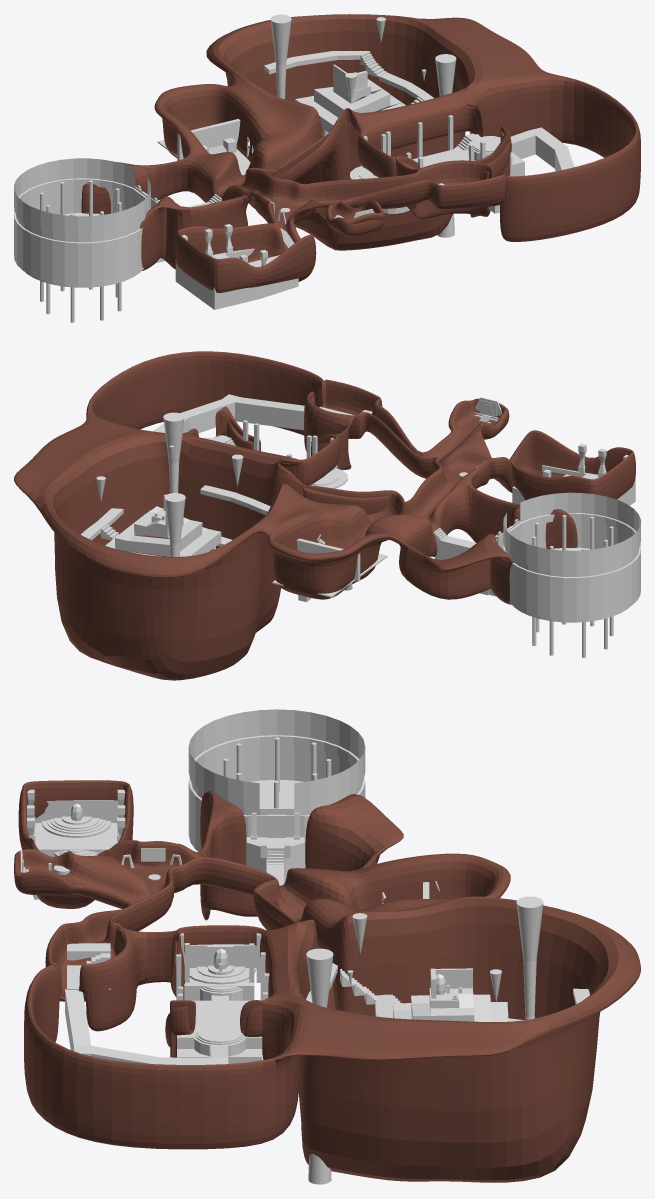
File: lvl1_2.fbx
The picture shows the model from 3 angles, top to bottom: view 1: azimuth 30°, elevation 25°; view 2: azimuth 150°, elevation 25°; view 3: azimuth 270°, elevation 25°; orthographic projection. The views are drawn at different scales.
Visible parts, largest first — view 1: Cube.020, Cylinder.004, Plane, Cube.031, Cube.101, Cylinder.009, Cube.062, Cylinder.010, Cube.121, Cube.118, Cube.096, Cube.097; view 2: Cube.020, Cylinder.004, Plane, Cube.101, Cylinder.010, Cylinder.009, Cube.105, Cube.031, Cube.036, Cube.062, Cube.118; view 3: Cube.020, Cylinder.004, Plane, Cube.031, Cube.101, Cylinder.009, Cylinder.010, Cube.051, Cube.096, Cylinder.023, Cube.088, Cube.097 (+4 smaller).
Part boxes in pixels (x1,y1,x2,y2): Cube.020: (81,14,640,292); Cylinder.004: (14,158,150,285); Plane: (295,79,405,132); Cube.031: (175,248,298,309); Cube.101: (488,127,574,213); Cylinder.009: (270,14,291,99); Cube.062: (177,119,240,160); Cylinder.010: (435,54,456,237); Cube.121: (264,51,369,74); Cube.118: (379,72,433,100); Cube.096: (412,133,524,176); Cube.097: (412,149,468,167); Cube.020: (14,351,635,680); Cylinder.004: (503,492,640,619); Plane: (105,506,232,556); Cube.101: (153,394,304,433); Cylinder.010: (163,412,184,556); Cylinder.009: (164,493,185,556); Cube.105: (200,485,270,515); Cube.031: (512,465,635,505); Cube.036: (434,536,488,595); Cube.062: (296,538,360,581); Cube.118: (81,508,123,540); Cube.020: (14,780,640,1182); Cylinder.004: (188,709,365,868); Plane: (375,988,508,1021); Cube.031: (33,800,118,899); Cube.101: (65,989,228,1064); Cylinder.009: (516,896,543,1020); Cylinder.010: (306,948,333,1184); Cube.051: (246,837,304,883); Cube.096: (177,1000,262,1063); Cylinder.023: (42,816,111,837); Cube.088: (184,944,256,968); Cube.097: (194,1004,243,1029).
Size of the model in its own units: 13328 by 4000 by 10085.
